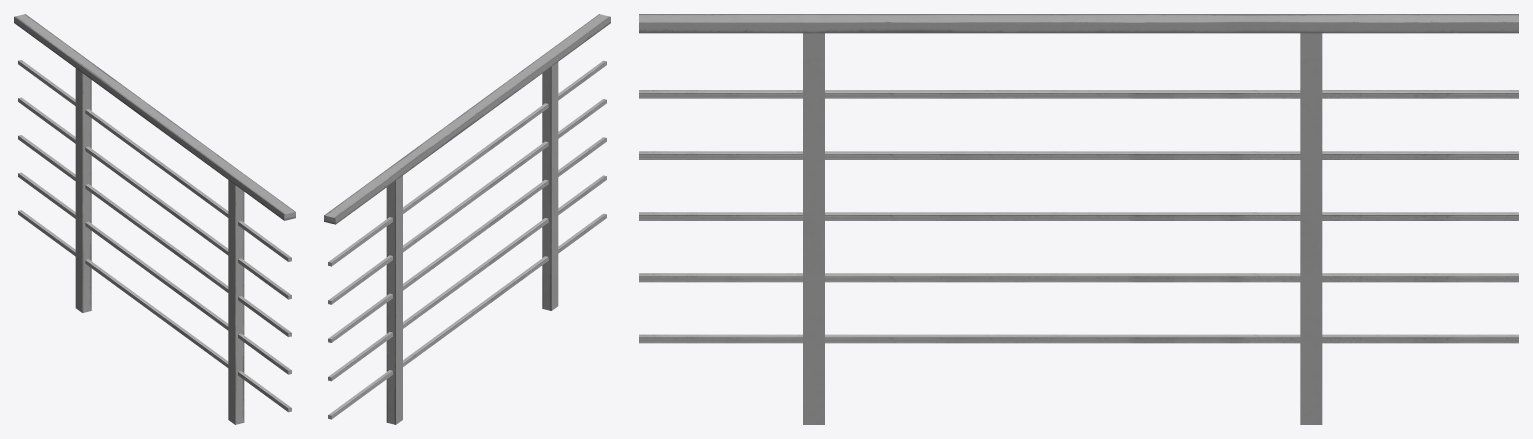
File: MB_Fence_H_2m.fbx
3 views of the same model, side by side, from view 1: azimuth 30°, elevation 25°; view 2: azimuth 150°, elevation 25°; view 3: azimuth 270°, elevation 25° (orthographic). The views are drawn at different scales.
Parts seen in each view (by area): view 1: MB_Fence_H_2m; view 2: MB_Fence_H_2m; view 3: MB_Fence_H_2m.
Part boxes in pixels (left/top/right/bottom): MB_Fence_H_2m: left=14, top=14, right=295, bottom=424; MB_Fence_H_2m: left=324, top=14, right=610, bottom=424; MB_Fence_H_2m: left=639, top=14, right=1518, bottom=424.
Bounding box in the file's own units: 4.88 × 101 × 200.
